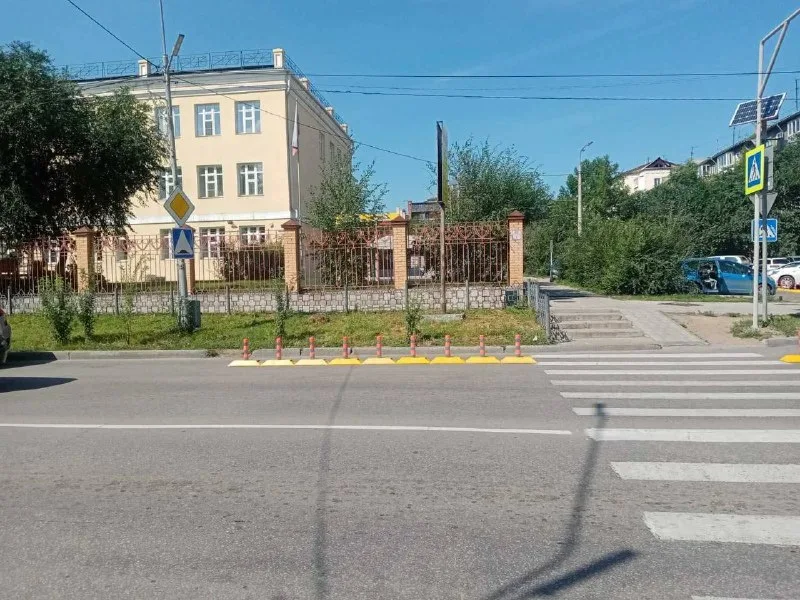sign: (163, 185, 196, 227), (742, 143, 767, 196), (170, 225, 197, 260), (750, 215, 779, 243)
